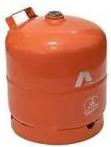cylinder: (1, 1, 111, 147)
